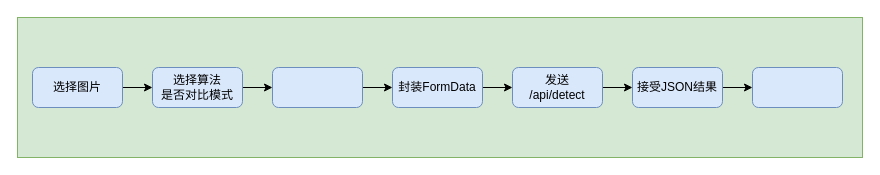
The diagram is 880 pixels wide and 175 high, and some of its shapes have lost their labels. The shapes that lost their labels are listed below. From the top down, each one's centre as x and y in pixels, then its label:
point 317,87: 填写参数面板
point 797,87: 渲染/导出
